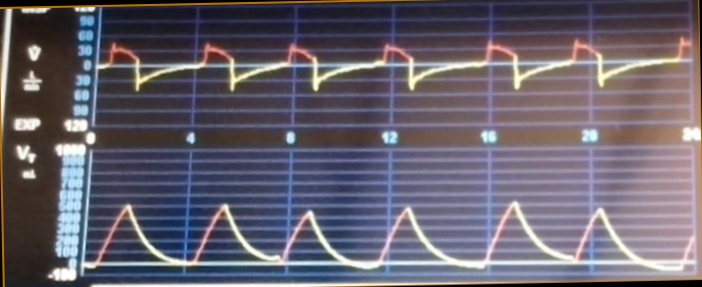Normal Flow: (101, 15, 691, 111)
Normal Volume: (89, 175, 694, 275)
